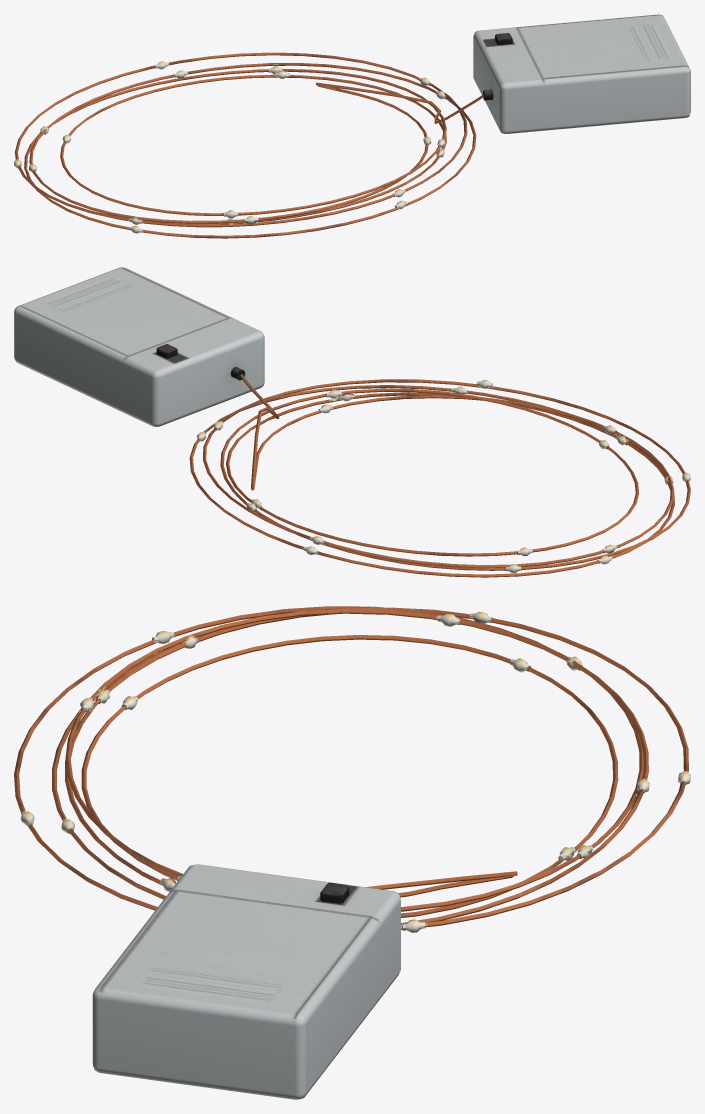
File: FairyLights.fbx
The picture shows the model from 3 angles, top to bottom: view 1: azimuth 30°, elevation 25°; view 2: azimuth 150°, elevation 25°; view 3: azimuth 270°, elevation 25°; orthographic projection. The views are drawn at different scales.
Visible parts, largest first — view 1: FairyLights_Box, FairyLights_String; view 2: FairyLights_Box, FairyLights_String; view 3: FairyLights_Box, FairyLights_String.
Part boxes in pixels (bbox=[...]): FairyLights_Box: bbox=[473, 14, 690, 133]; FairyLights_String: bbox=[14, 52, 484, 238]; FairyLights_Box: bbox=[14, 267, 264, 426]; FairyLights_String: bbox=[189, 374, 690, 577]; FairyLights_Box: bbox=[92, 864, 400, 1099]; FairyLights_String: bbox=[14, 606, 690, 932].
Size of the model in its own units: 0.9804 by 0.09 by 0.5741.
Materials: 2 (2 with a texture image).
